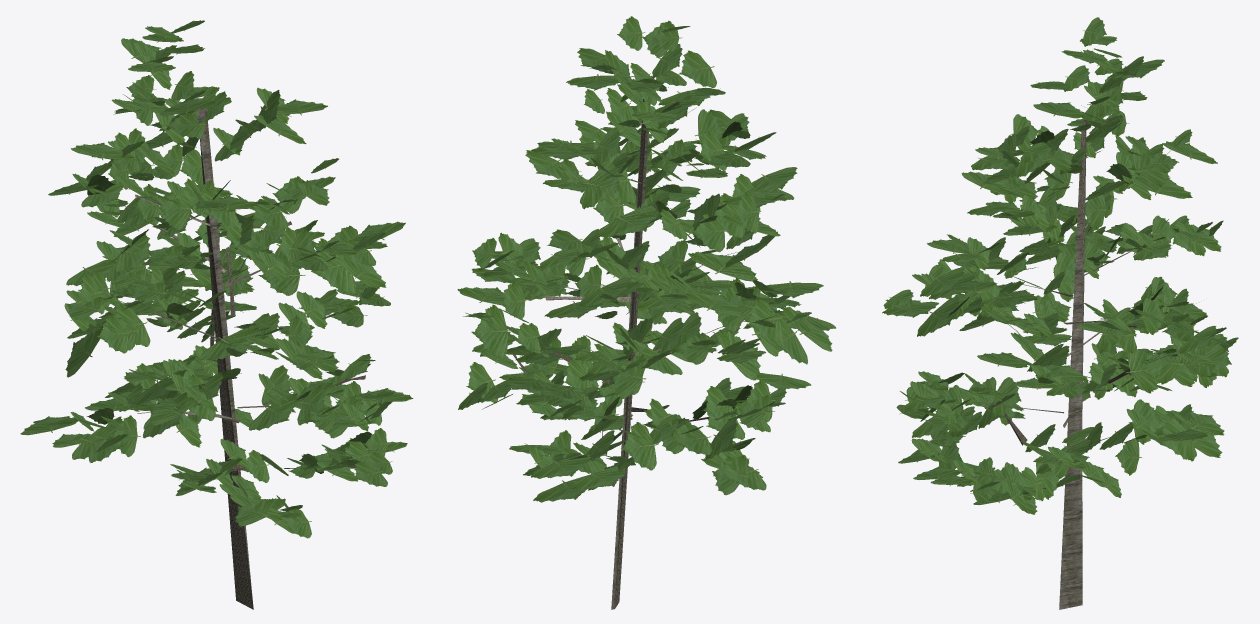
The model's file is bush_02_lod2.glb.
3 views of the same model, side by side, from view 1: azimuth 30°, elevation 25°; view 2: azimuth 150°, elevation 25°; view 3: azimuth 270°, elevation 25° (orthographic). The views are drawn at different scales.
Parts seen in each view (by area): view 1: Scatter_bush_02_LOD2; view 2: Scatter_bush_02_LOD2; view 3: Scatter_bush_02_LOD2.
Part boxes in pixels (bbox=[...]): Scatter_bush_02_LOD2: bbox=[20, 20, 413, 609]; Scatter_bush_02_LOD2: bbox=[457, 16, 835, 609]; Scatter_bush_02_LOD2: bbox=[882, 17, 1238, 609].
Bounding box in the file's own units: 1.19 × 1.97 × 1.2.
Materials: 1 (1 with a texture image).
